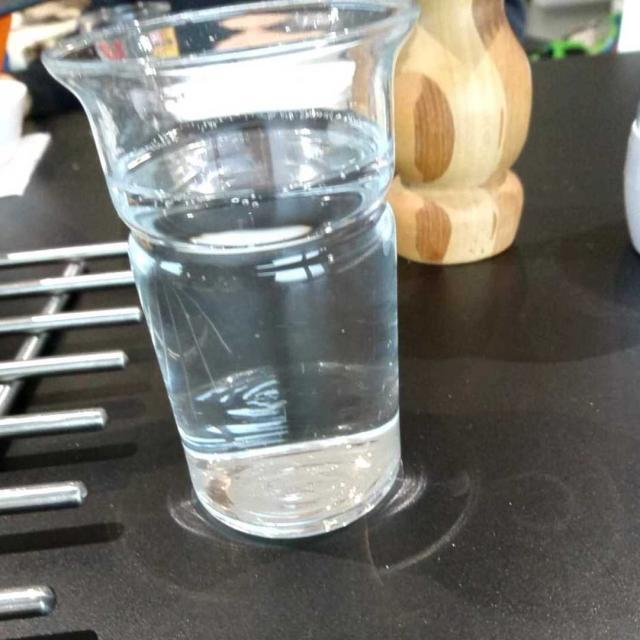water: (111, 97, 399, 563), (108, 101, 409, 531)
